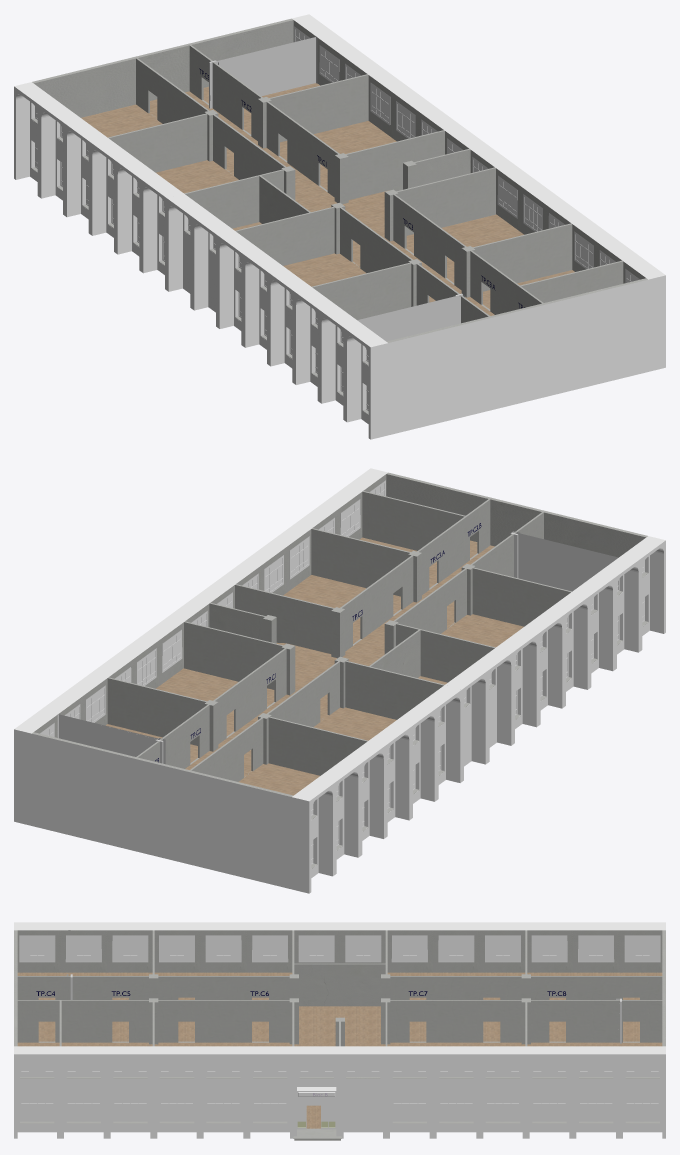
The model's file is blocbtext.gltf.
The picture shows the model from 3 angles, top to bottom: view 1: azimuth 30°, elevation 25°; view 2: azimuth 150°, elevation 25°; view 3: azimuth 270°, elevation 25°; orthographic projection. The views are drawn at different scales.
Parts seen in each view (by area): view 1: Cube.006, Cube_DW.003, Cube.003, Cube_DW.001, Cube.012, Floor2, Cube.002, Cube.005, Cube_DW, Cube.007, Cube_DW.2, Plane.001 (+7 smaller); view 2: Cube.007, Cube.003, Cube_DW.001, Cube_DW.003, Cube.012, Floor2, Cube.002, Cube.005, Cube_DW.2, Cube_DW, Cube.006, Plane.002 (+7 smaller); view 3: Cube_DW, Cube_DW.2, Cube_DW.001, Cube_DW.003, Floor2, Cube.003, Cube.012, Cube.002, Cube.005, Cube_1W, Cube.001, Cube_DOOR (+8 smaller).
Part boxes in pixels (<box>): Cube.006: <box>386,278,648,435</box>; Cube_DW.003: <box>217,231,388,439</box>; Cube.003: <box>384,167,623,314</box>; Cube_DW.001: <box>14,82,183,290</box>; Cube.012: <box>189,45,444,204</box>; Floor2: <box>81,83,574,315</box>; Cube.002: <box>108,58,295,228</box>; Cube.005: <box>235,202,489,323</box>; Cube_DW: <box>496,163,665,371</box>; Cube.007: <box>32,18,293,117</box>; Cube_DW.2: <box>292,14,461,141</box>; Plane.001: <box>209,37,317,108</box>; Cube.007: <box>31,732,293,889</box>; Cube.003: <box>235,491,490,658</box>; Cube_DW.001: <box>291,685,462,893</box>; Cube_DW.003: <box>496,536,665,744</box>; Cube.012: <box>107,621,295,768</box>; Floor2: <box>106,537,523,795</box>; Cube.002: <box>190,656,444,781</box>; Cube.005: <box>384,512,571,682</box>; Cube_DW.2: <box>14,617,183,825</box>; Cube_DW: <box>218,468,387,595</box>; Cube.006: <box>386,472,647,557</box>; Plane.002: <box>510,531,618,591</box>; Cube_DW: <box>14,1046,293,1138</box>; Cube_DW.2: <box>386,1046,665,1138</box>; Cube_DW.001: <box>386,922,665,972</box>; Cube_DW.003: <box>14,922,293,972</box>; Floor2: <box>17,972,662,1046</box>; Cube.003: <box>17,998,298,1046</box>; Cube.012: <box>381,998,662,1046</box>; Cube.002: <box>381,930,662,999</box>; Cube.005: <box>17,930,298,999</box>; Cube_1W: <box>340,1046,386,1138</box>; Cube.001: <box>294,963,385,1006</box>; Cube_DOOR: <box>293,1046,339,1136</box>.
Size of the model in its own units: 33.99 by 10.02 by 70.
14 materials, 4 textured.
